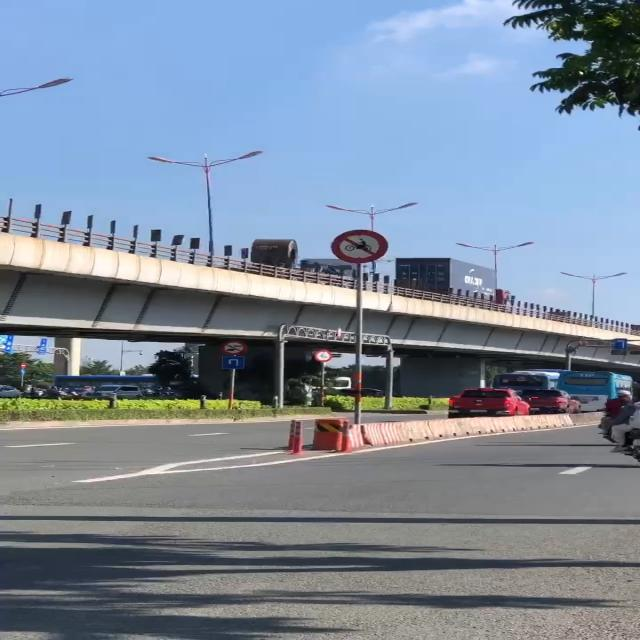Bien bao cam xe may: (328, 227, 392, 266)
Bien bao cam xe oto khach va xe oto tai: (223, 339, 251, 356)
